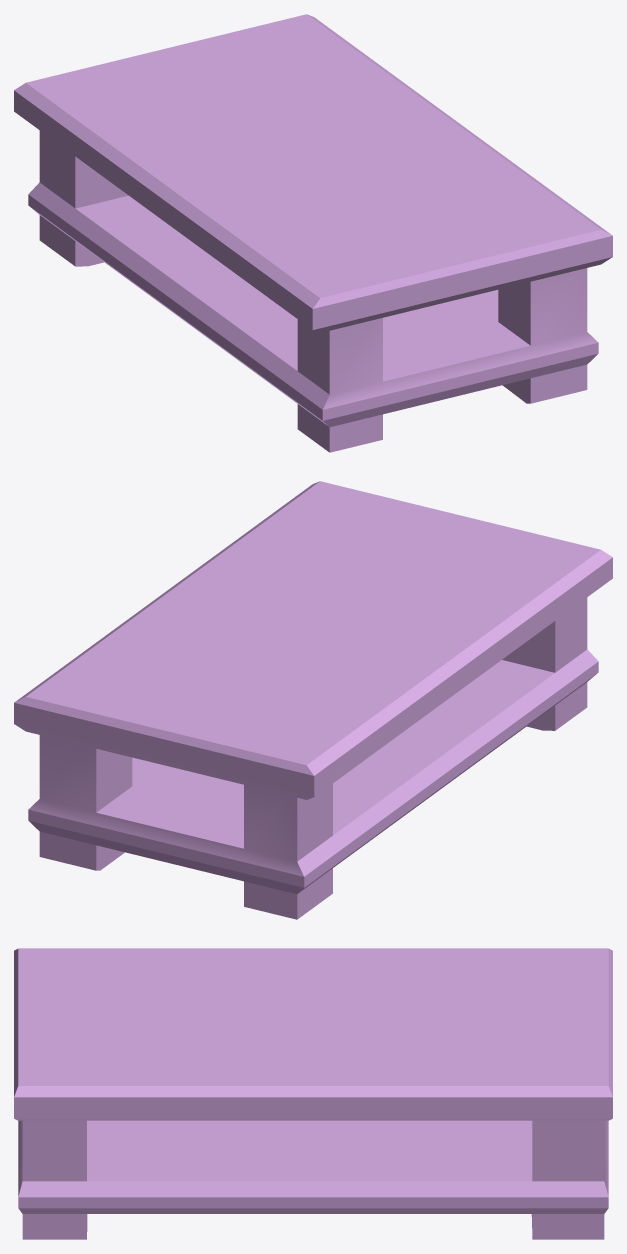
File: Friday_House_CoffeeTable.fbx
3 renders of one model, top to bottom at view 1: azimuth 30°, elevation 25°; view 2: azimuth 150°, elevation 25°; view 3: azimuth 270°, elevation 25°, orthographic.
Parts seen in each view (by area): view 1: CounterTop, Counter1; view 2: CounterTop, Counter1; view 3: CounterTop, Counter1.
Part boxes in pixels (bbox=[...]): CounterTop: bbox=[14, 14, 612, 332]; Counter1: bbox=[28, 130, 598, 452]; CounterTop: bbox=[14, 481, 612, 799]; Counter1: bbox=[28, 597, 598, 919]; CounterTop: bbox=[14, 948, 612, 1120]; Counter1: bbox=[18, 1120, 608, 1239].
Size of the model in its own units: 280 by 144 by 482.
